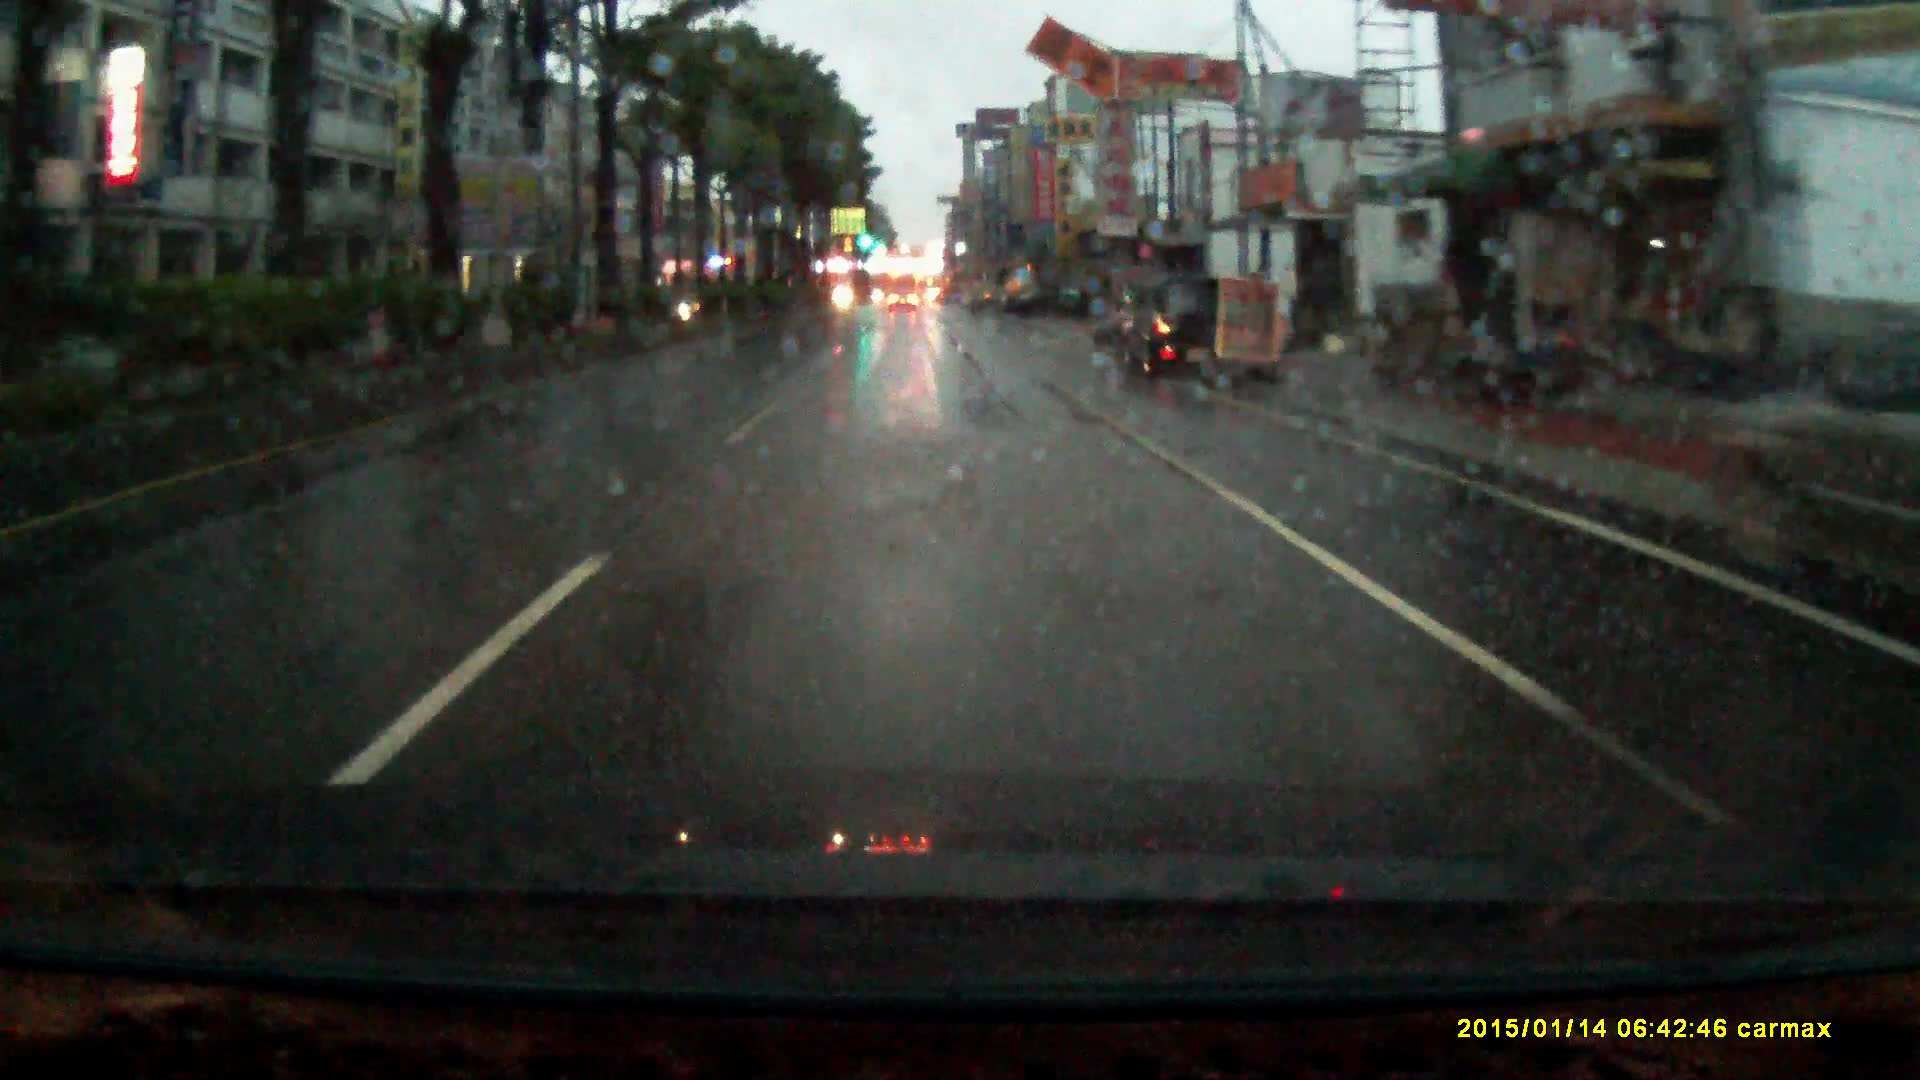vehicle: (1724, 380, 1920, 616), (1104, 277, 1258, 389), (889, 293, 919, 318)
